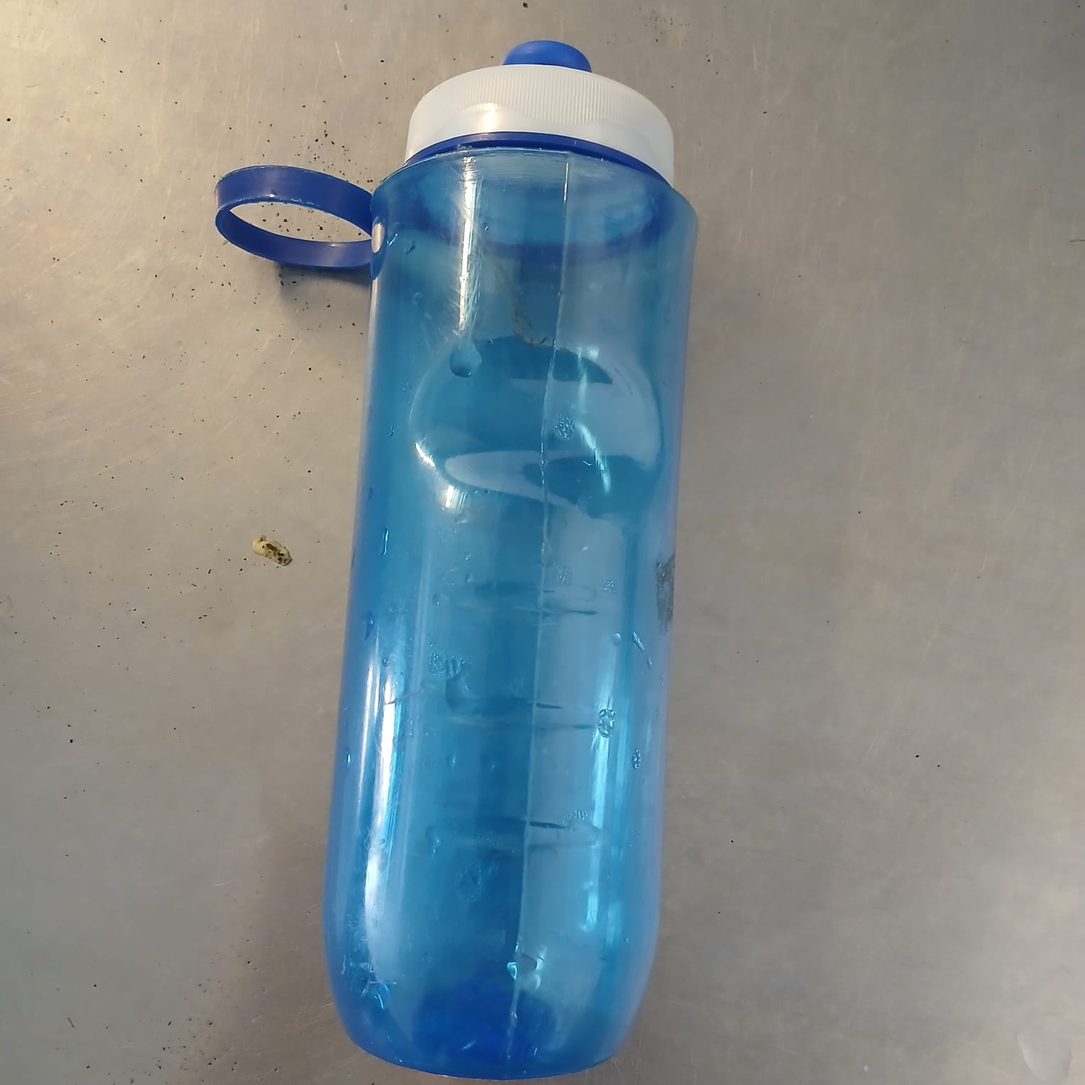Plastico: (324, 39, 702, 1077)
